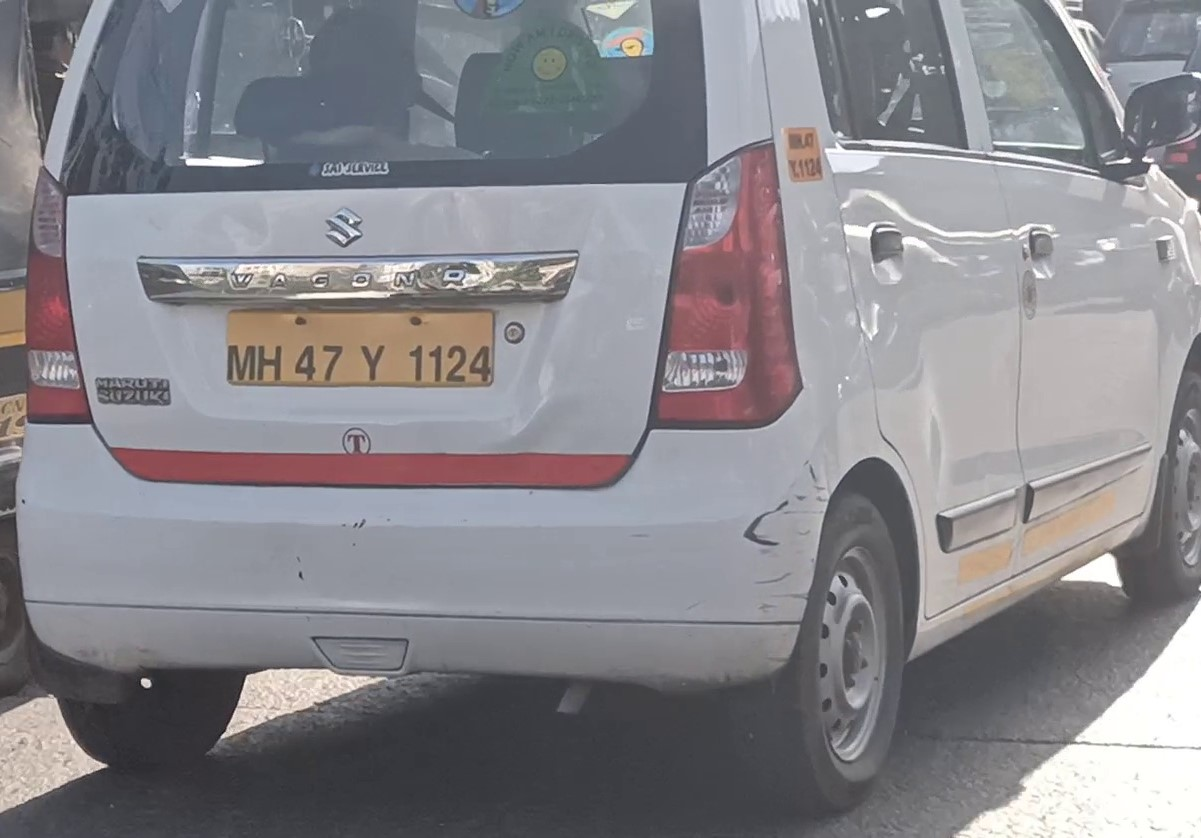MH47Y1124: (227, 311, 495, 389)
